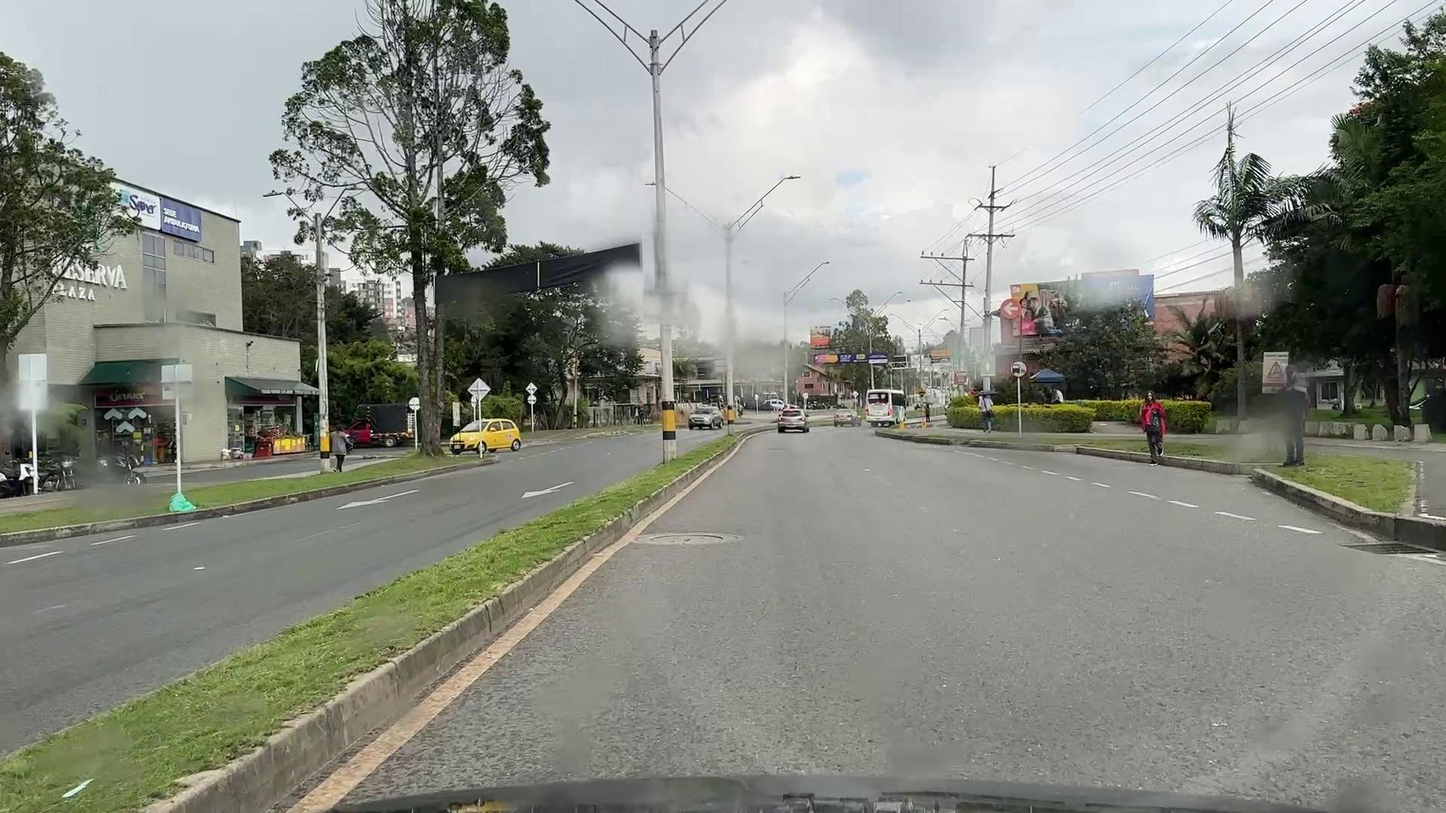registro: (651, 535, 723, 543)
rejilla: (1340, 542, 1440, 554)
